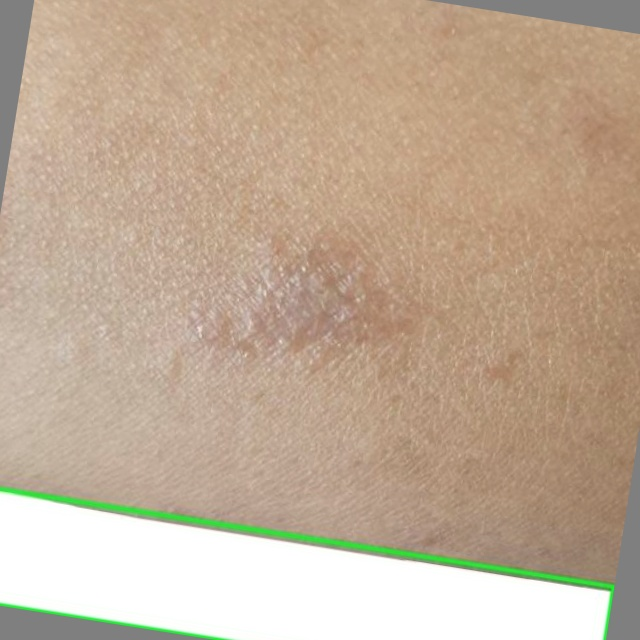Scabies: (0, 489, 613, 639)
